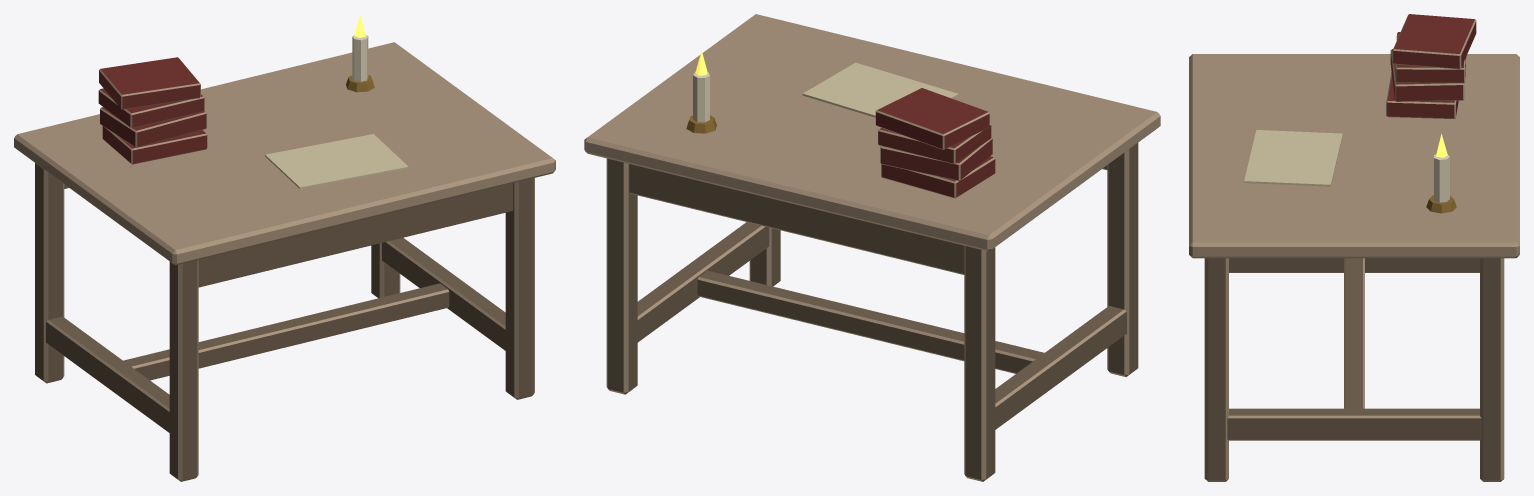
Rendered from desk_2.glb.
The picture shows the model from 3 angles, left to right: view 1: azimuth 30°, elevation 25°; view 2: azimuth 150°, elevation 25°; view 3: azimuth 270°, elevation 25°; orthographic projection. The views are drawn at different scales.
Parts seen in each view (by area): view 1: Desk_2; view 2: Desk_2; view 3: Desk_2.
Boxes of the visible parts, <box> form: Desk_2: <box>14,14,555,481</box>; Desk_2: <box>584,14,1160,481</box>; Desk_2: <box>1189,14,1519,481</box>.
Size of the model in its own units: 1.3 by 1.01 by 0.95.
